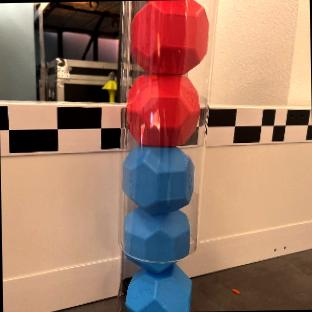V5_BLUE: (122, 146, 193, 211), (122, 207, 190, 262), (125, 264, 190, 312)
V5_RED: (129, 0, 208, 79), (126, 69, 202, 147)
